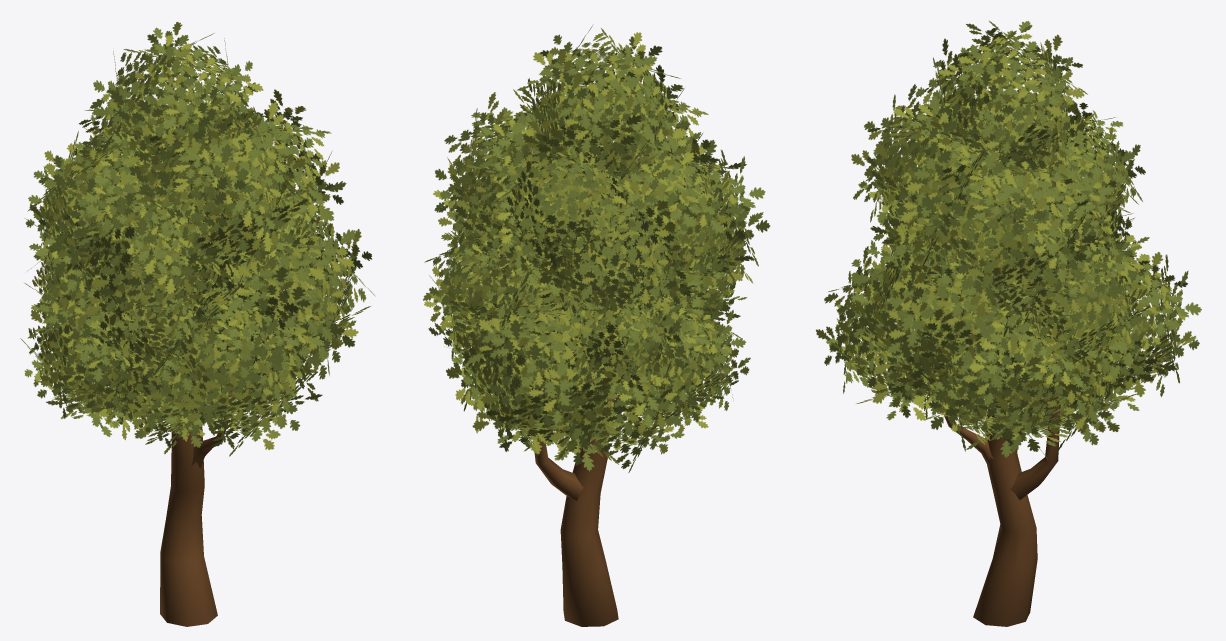
Rendered from Oak_Tree_2.glb.
3 renders of one model, left to right at view 1: azimuth 30°, elevation 25°; view 2: azimuth 150°, elevation 25°; view 3: azimuth 270°, elevation 25°, orthographic.
Parts seen in each view (by area): view 1: Oak_Tree_2; view 2: Oak_Tree_2; view 3: Oak_Tree_2.
Boxes of the visible parts, x1,y1,x2,y2 form: Oak_Tree_2: [20, 21, 375, 626]; Oak_Tree_2: [423, 24, 770, 626]; Oak_Tree_2: [816, 20, 1201, 626].
Bounding box in the file's own units: 5.01 × 8.78 × 5.43.
2 materials, 2 textured.
